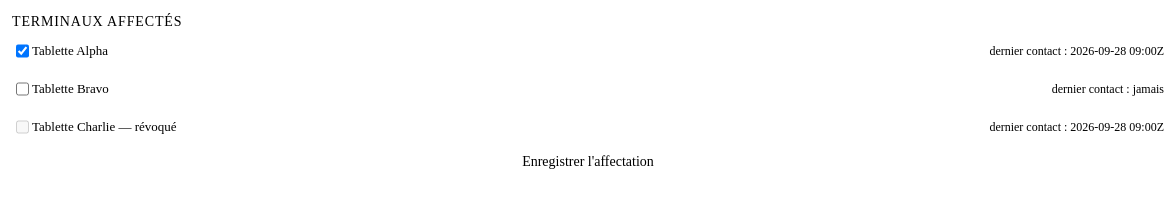
it: refreshes the server's assignment after a refusal
The image size is (1176, 213).
Click the button "Enregistrer l'affectation" at point(588, 162), box [12,146,1164,178]
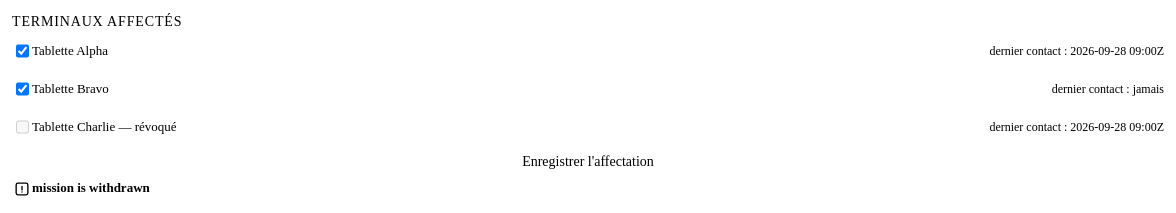
Result: the message reads "mission is withdrawn" at [32,180,150,195]
Result: the checkbox labelled "Tablette Bravo" is checked at [16,73,29,105]
